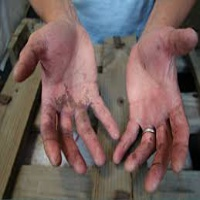ring: (76, 106, 107, 172), (125, 123, 155, 173)
